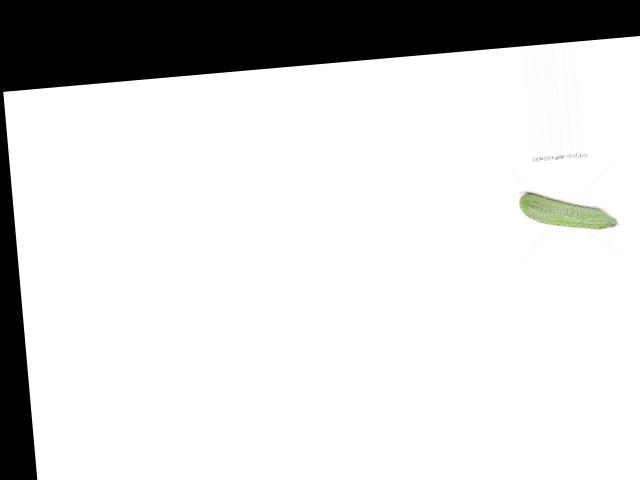cucumber: (519, 185, 619, 235)
